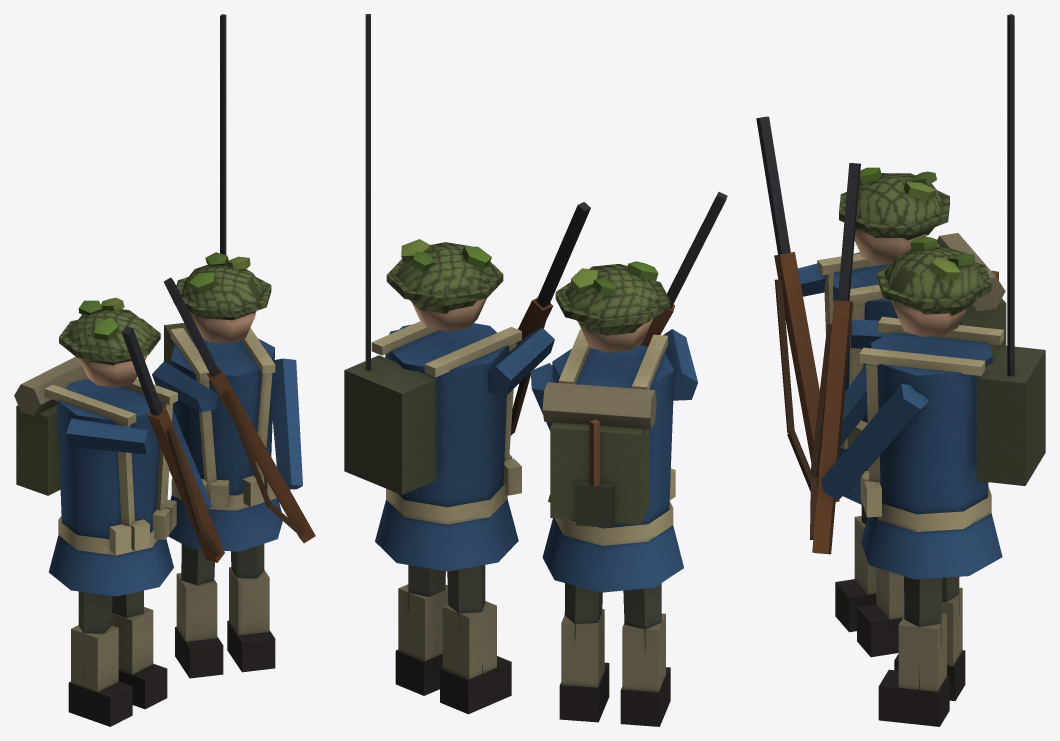
The model's file is sentry_dl6_blue.glb.
3 renders of one model, left to right at view 1: azimuth 30°, elevation 25°; view 2: azimuth 150°, elevation 25°; view 3: azimuth 270°, elevation 25°, orthographic. The views are drawn at different scales.
Visible parts, largest first — view 1: sentry_dl6_blue; view 2: sentry_dl6_blue; view 3: sentry_dl6_blue.
Part boxes in pixels (x1,y1,x2,y2): sentry_dl6_blue: [14, 14, 315, 726]; sentry_dl6_blue: [344, 14, 727, 726]; sentry_dl6_blue: [756, 14, 1045, 726].
Size of the model in its own units: 0.2575 by 0.589 by 0.2183.
Materials: 1 (1 with a texture image).
